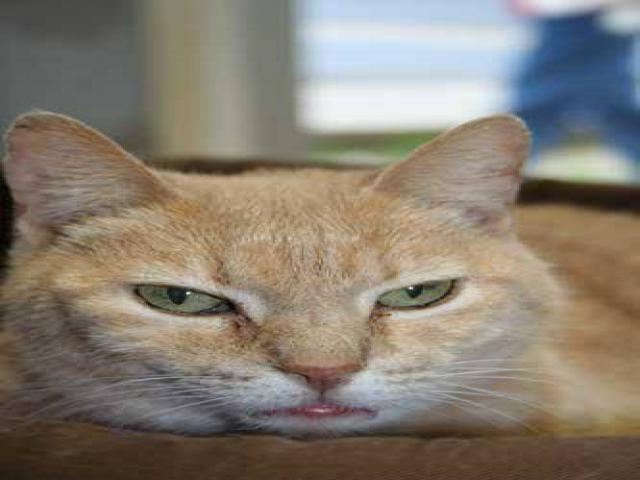cat: (6, 105, 630, 458)
